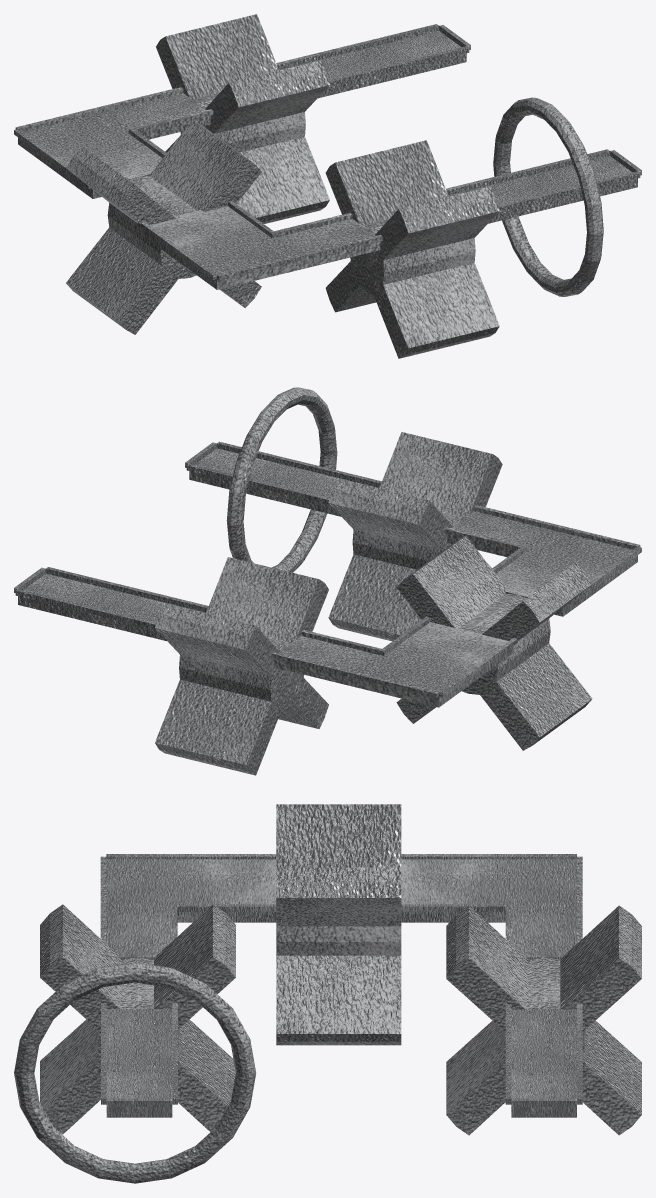
The model's file is nivel_metal.fbx.
3 views of the same model, one above another, from view 1: azimuth 30°, elevation 25°; view 2: azimuth 150°, elevation 25°; view 3: azimuth 270°, elevation 25° (orthographic). The views are drawn at different scales.
Parts seen in each view (by area): view 1: Cilindro 3, Cilindro, Cilindro 2, Plataforma L 2, Plataforma L 1, Meta, Plataforma 1, Plataforma 2; view 2: Cilindro, Cilindro 3, Cilindro 2, Plataforma L 1, Plataforma L 2, Plataforma 1, Meta, Plataforma 2; view 3: Cilindro 2, Cilindro, Cilindro 3, Plataforma L 1, Plataforma L 2, Meta, Plataforma 1, Plataforma 2.
Part boxes in pixels (<box>): Cilindro 3: <box>325,140,499,358</box>; Cilindro: <box>156,14,329,223</box>; Cilindro 2: <box>66,120,261,334</box>; Plataforma L 2: <box>138,201,382,289</box>; Plataforma L 1: <box>14,87,213,198</box>; Meta: <box>493,97,603,296</box>; Plataforma 1: <box>276,24,470,98</box>; Plataforma 2: <box>446,149,641,223</box>; Cilindro: <box>155,557,328,775</box>; Cilindro 3: <box>328,432,502,641</box>; Cilindro 2: <box>396,536,592,750</box>; Plataforma L 1: <box>271,616,517,707</box>; Plataforma L 2: <box>444,505,641,616</box>; Plataforma 1: <box>14,567,208,640</box>; Meta: <box>226,387,337,572</box>; Plataforma 2: <box>185,441,381,516</box>; Cilindro 2: <box>276,804,401,1045</box>; Cilindro: <box>446,905,641,1135</box>; Cilindro 3: <box>40,904,235,1134</box>; Plataforma L 1: <box>400,854,582,959</box>; Plataforma L 2: <box>100,854,283,959</box>; Meta: <box>14,962,256,1183</box>; Plataforma 1: <box>505,1004,582,1117</box>; Plataforma 2: <box>101,1003,177,1117</box>.
Size of the model in its own units: 545 by 217 by 555.
1 material, 1 textured.
